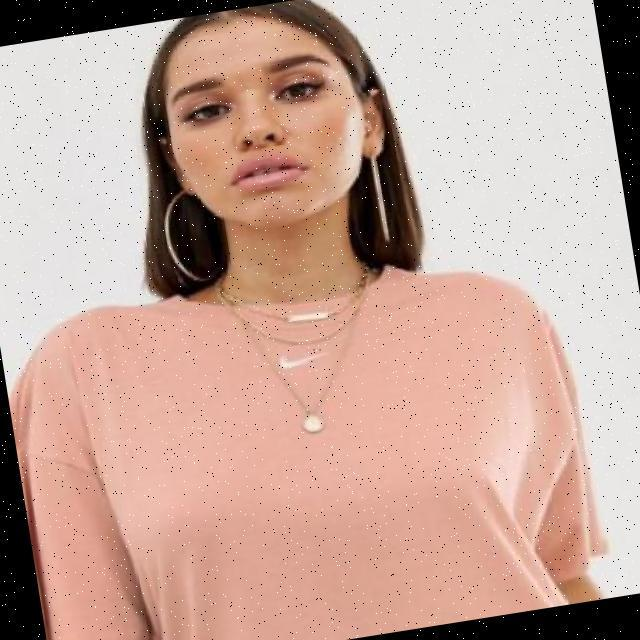Nike: (275, 346, 325, 367)
